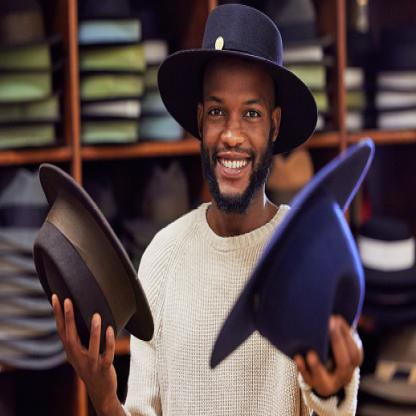hat: (207, 132, 383, 378), (155, 3, 317, 160), (33, 160, 157, 348)
